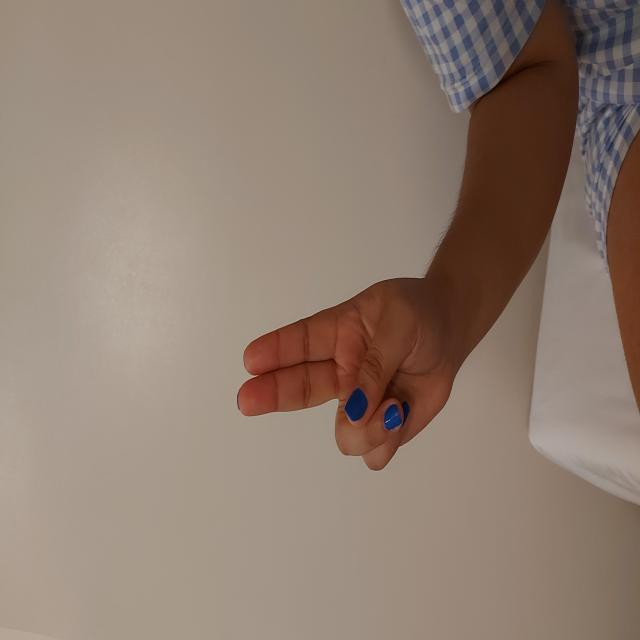U: (164, 234, 363, 458)
